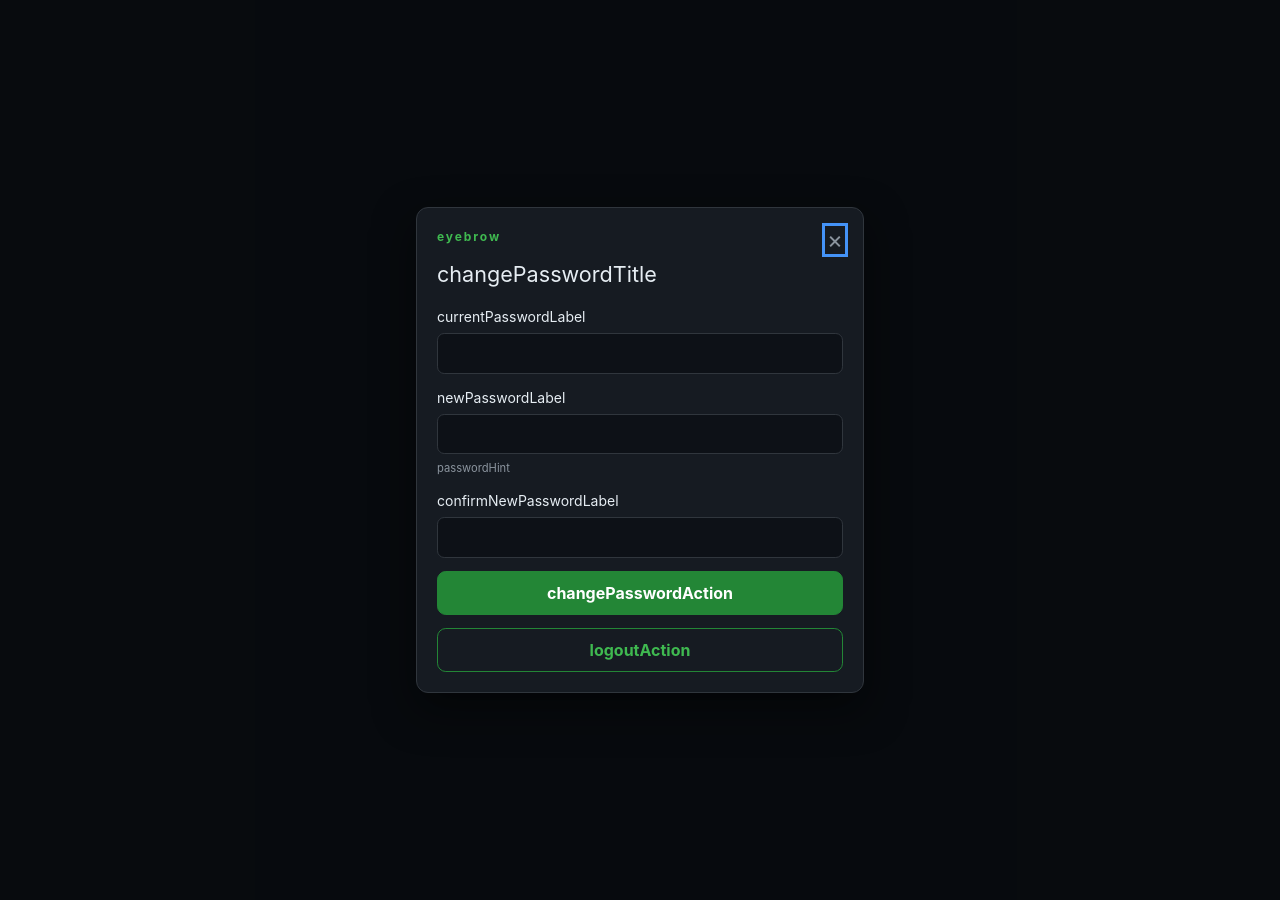
Test: account-modal password › surfaces a password-change API failure
Type "longenough123" into the password field with id "current-password" at coordinates (640, 353), box [437,333,843,374]
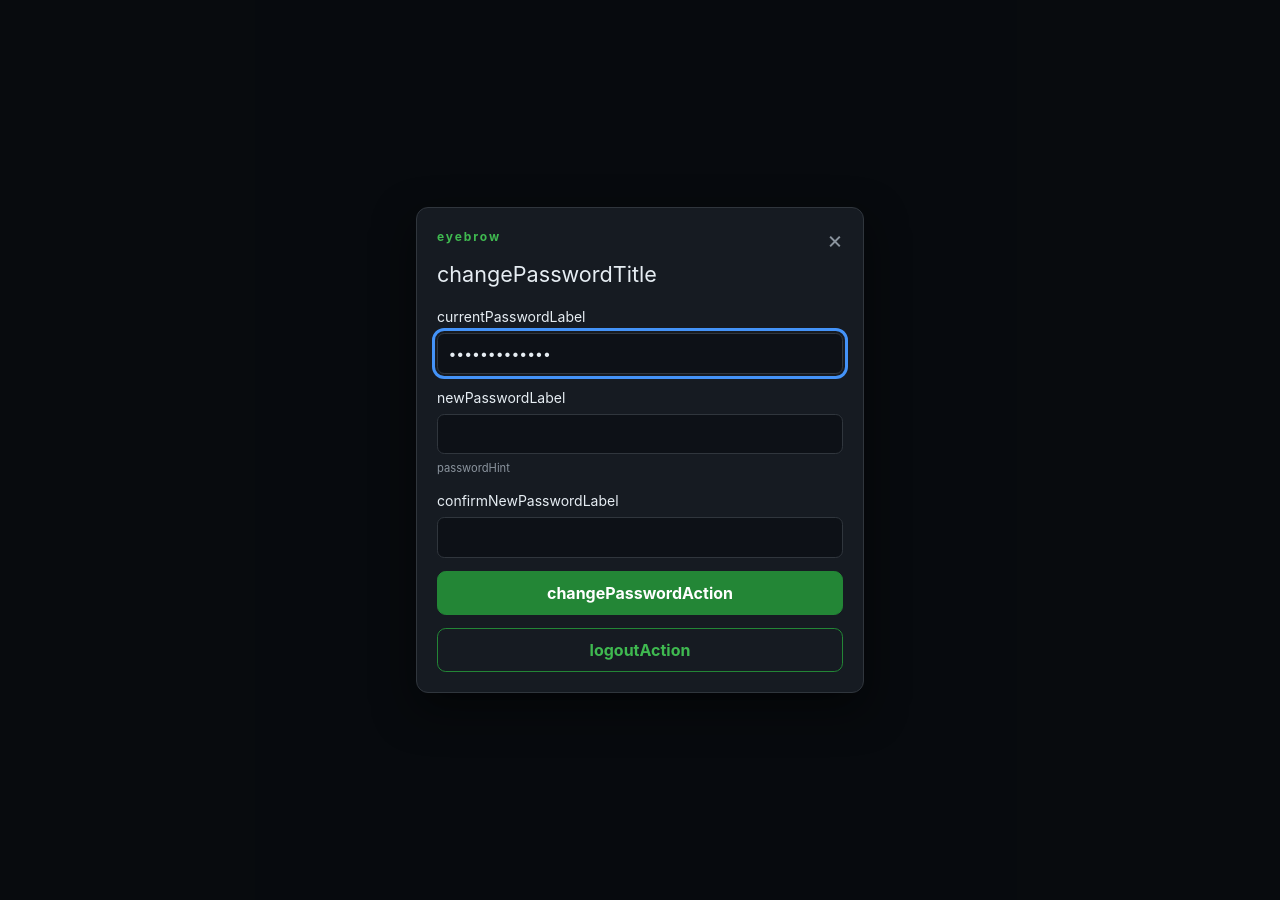
Type "newlongenough456" into the password field with id "new-password" at coordinates (640, 434), box [437,414,843,454]
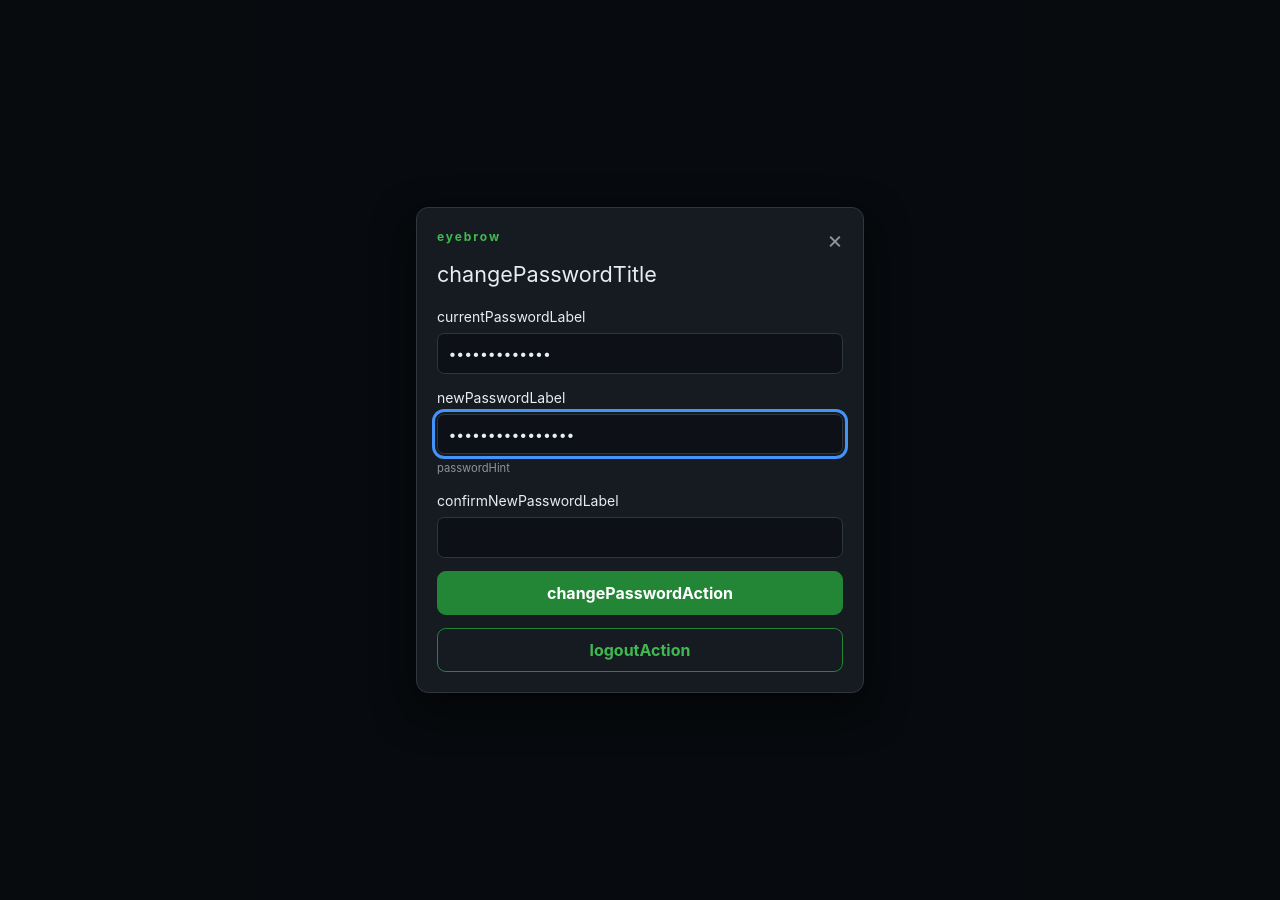
Type "newlongenough456" into the password field with id "confirm-new-password" at coordinates (640, 537), box [437,517,843,558]
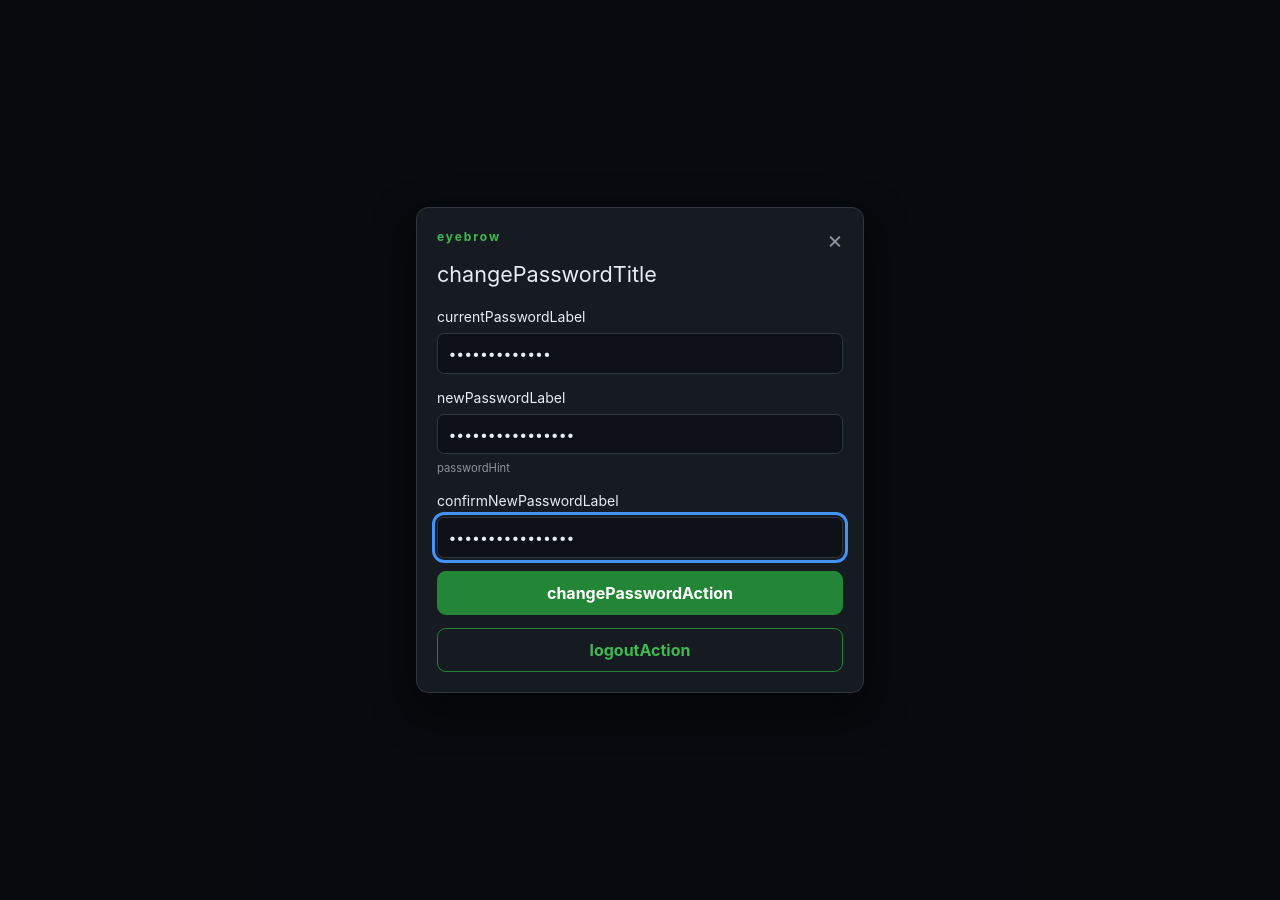
Click the button "changePasswordAction" at coordinates (640, 593), box [437,571,843,615]
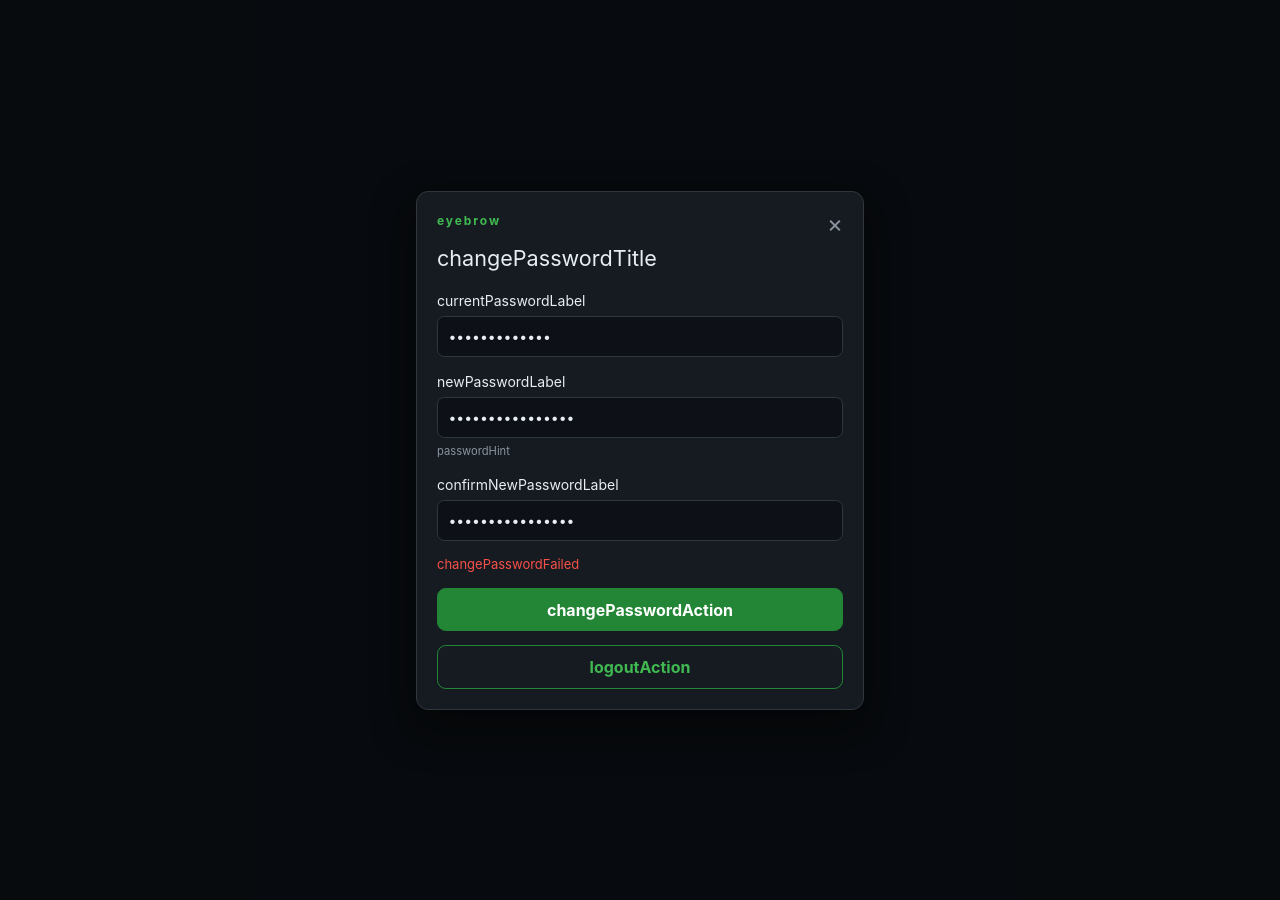
Result: the text "changePasswordFailed" is shown at [437,556,579,572]
